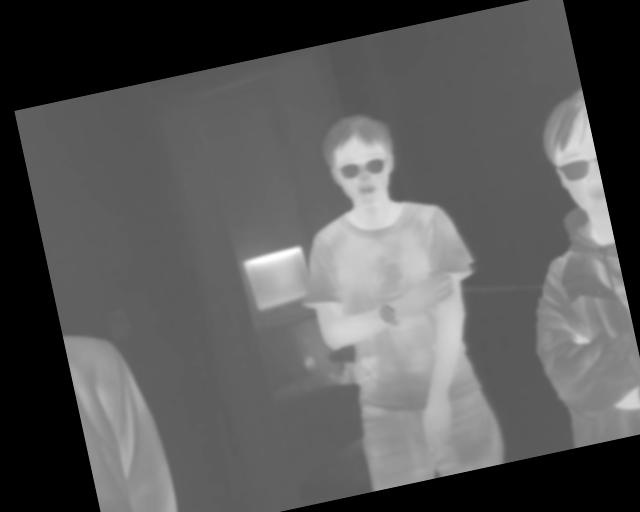face: (316, 106, 405, 212)
